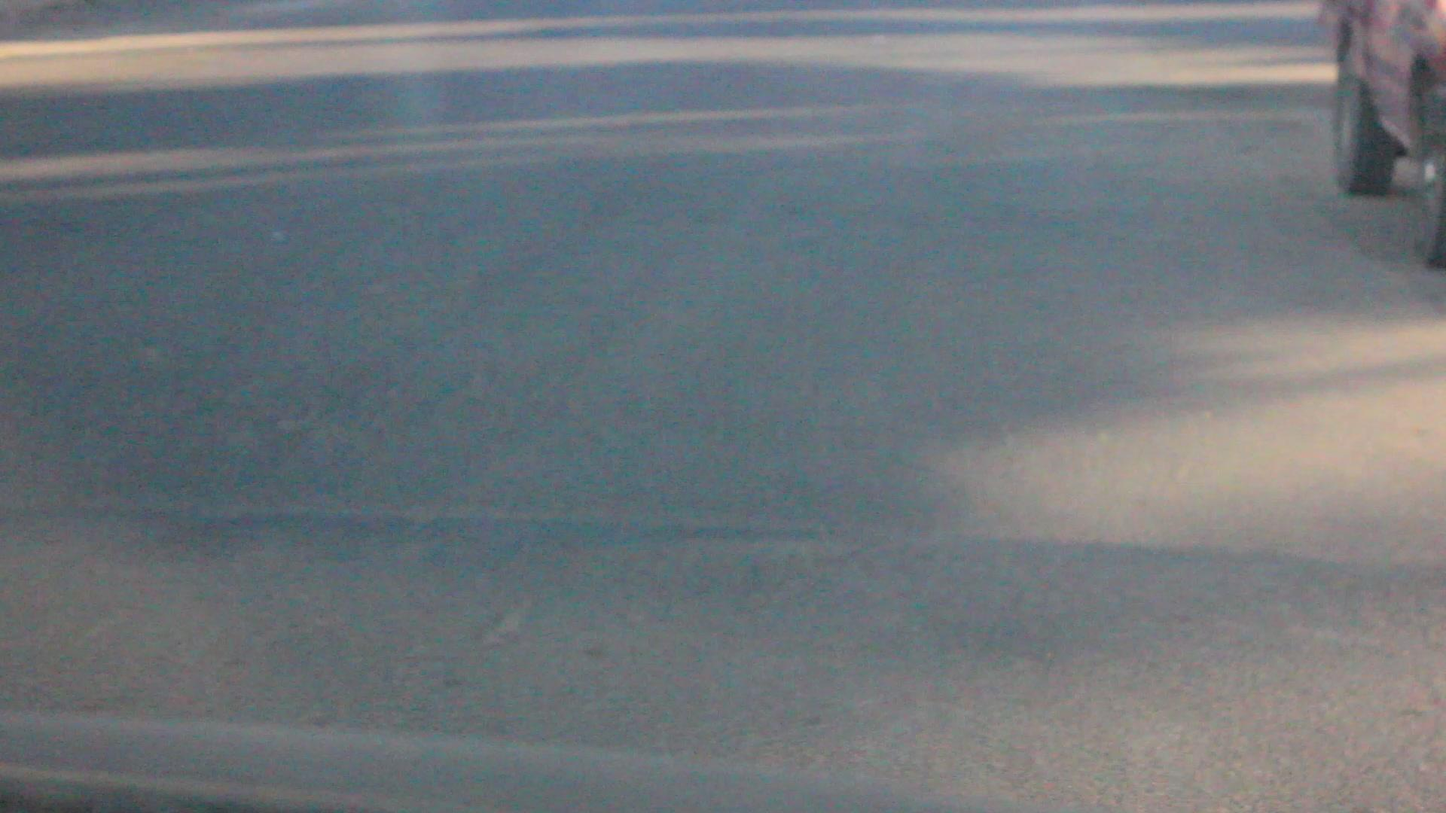Bump: (6, 493, 1446, 811)
